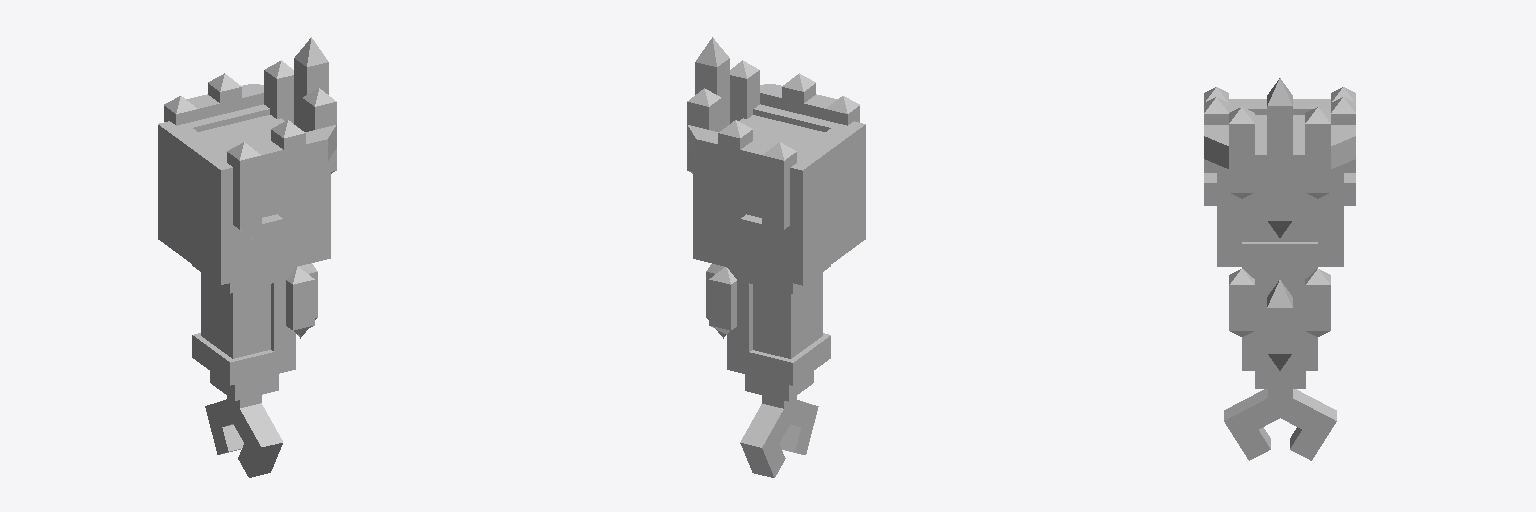
The model's file is arm_grabber_r.obj.
The picture shows the model from 3 angles: view 1: azimuth 30°, elevation 25°; view 2: azimuth 150°, elevation 25°; view 3: azimuth 270°, elevation 25°; orthographic projection.
Parts seen in each view (by area): view 1: ARM_RIGHT_GRABBY_Cube.046, ARM_RIGHT_DECO_GOLD_Cube.214; view 2: ARM_RIGHT_GRABBY_Cube.046, ARM_RIGHT_DECO_GOLD_Cube.214; view 3: ARM_RIGHT_GRABBY_Cube.046, ARM_RIGHT_DECO_GOLD_Cube.214.
Boxes of the visible parts, x1=… form: ARM_RIGHT_GRABBY_Cube.046: x1=158, y1=104, x2=330, y2=477; ARM_RIGHT_DECO_GOLD_Cube.214: x1=164, y1=37, x2=336, y2=338; ARM_RIGHT_GRABBY_Cube.046: x1=693, y1=104, x2=865, y2=477; ARM_RIGHT_DECO_GOLD_Cube.214: x1=687, y1=37, x2=859, y2=338; ARM_RIGHT_GRABBY_Cube.046: x1=1217, y1=99, x2=1343, y2=460; ARM_RIGHT_DECO_GOLD_Cube.214: x1=1204, y1=78, x2=1355, y2=370.
Bounding box in the file's own units: 0.3782 × 1.12 × 0.375.